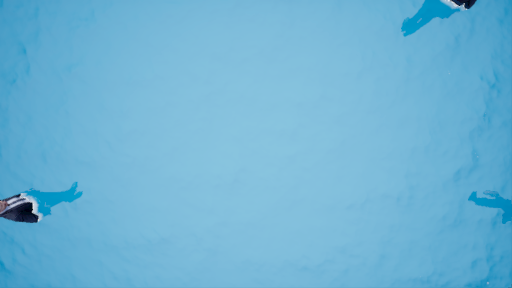person: (1, 188, 88, 230)
